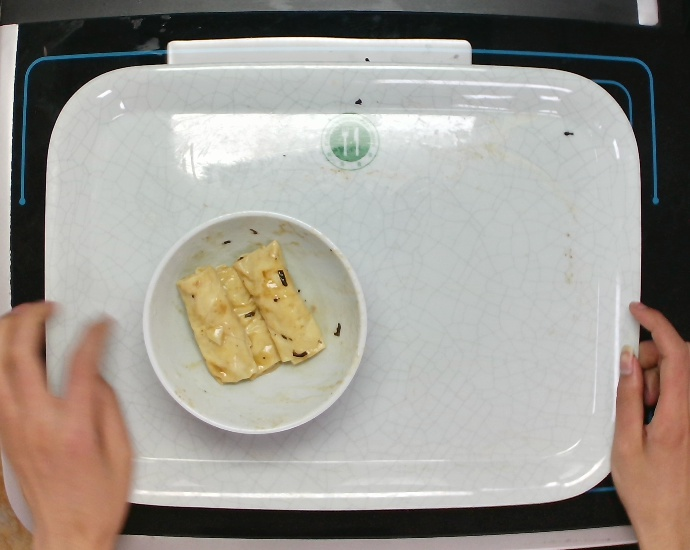JYsf-Fan_Wan: (138, 206, 374, 438)
